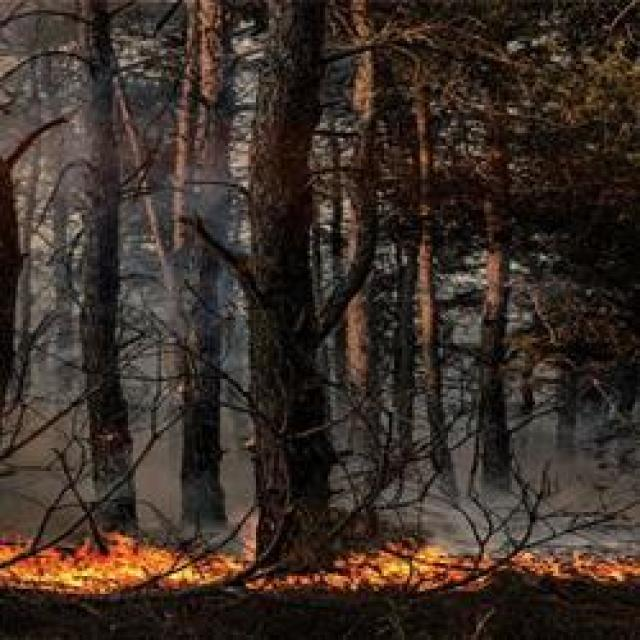fire: (8, 540, 215, 588), (371, 554, 406, 583)
smoke: (533, 444, 575, 488)
